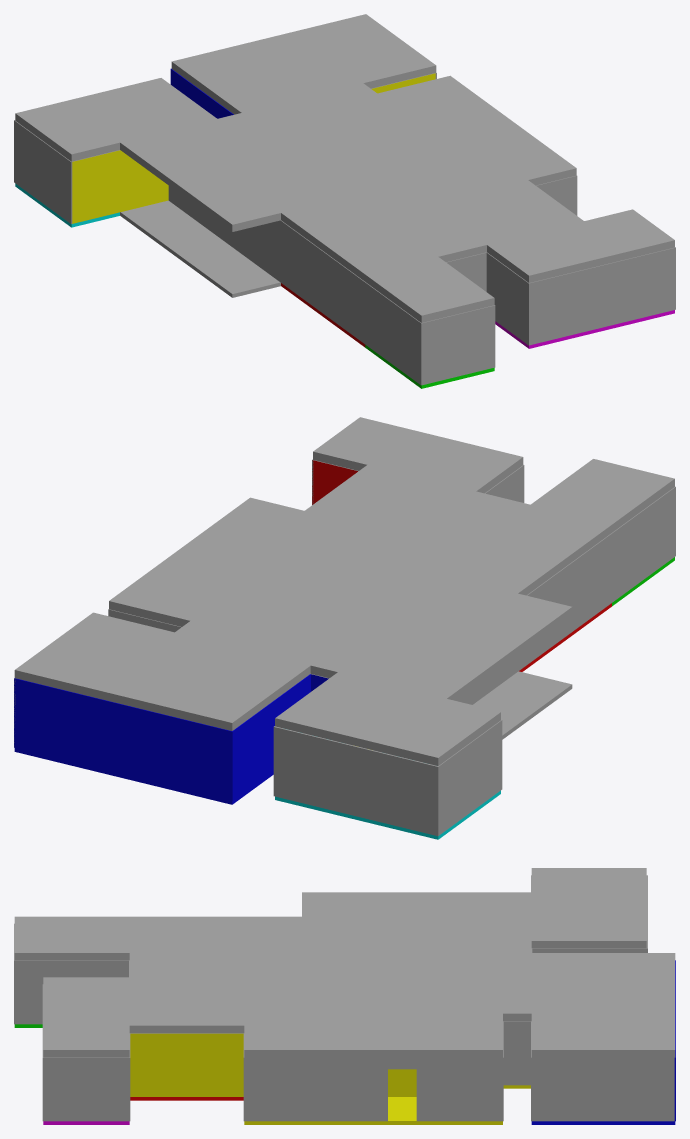
The model's file is house_v001.fbx.
3 views of the same model, one above another, from view 1: azimuth 30°, elevation 25°; view 2: azimuth 150°, elevation 25°; view 3: azimuth 270°, elevation 25° (orthographic). The views are drawn at different scales.
Parts seen in each view (by area): view 1: ceiling, wall23, wall19, floor, wall29, wall22, wall13, wall16, wall24, wall12, wall03, wall27; view 2: ceiling, wall08, wall15, wall19, floor, wall13, wall12, wall27, wall16, wall24; view 3: ceiling, wall05, wall11, wall28, wall25, wall26, floor, wall04, wall14.
Boxes of the visible parts, x1=… form: ceiling: x1=15, y1=14, x2=674, y2=322; wall23: x1=528, y1=247, x2=675, y2=345; wall19: x1=281, y1=220, x2=420, y2=384; floor: x1=15, y1=183, x2=674, y2=388; wall29: x1=70, y1=72, x2=436, y2=223; wall22: x1=421, y1=305, x2=494, y2=385; wall13: x1=14, y1=120, x2=72, y2=223; wall16: x1=168, y1=186, x2=280, y2=282; wall24: x1=486, y1=252, x2=529, y2=344; wall12: x1=170, y1=68, x2=233, y2=118; wall03: x1=536, y1=175, x2=577, y2=215; wall27: x1=446, y1=252, x2=486, y2=291; ceiling: x1=14, y1=417, x2=674, y2=765; wall08: x1=14, y1=678, x2=231, y2=800; wall15: x1=273, y1=726, x2=437, y2=835; wall19: x1=519, y1=487, x2=675, y2=670; floor: x1=14, y1=557, x2=674, y2=839; wall13: x1=436, y1=720, x2=501, y2=836; wall12: x1=231, y1=674, x2=310, y2=800; wall27: x1=312, y1=460, x2=358, y2=504; wall16: x1=455, y1=654, x2=518, y2=704; wall24: x1=485, y1=465, x2=524, y2=502; ceiling: x1=14, y1=868, x2=675, y2=1057; wall05: x1=245, y1=1057, x2=502, y2=1121; wall11: x1=532, y1=1057, x2=674, y2=1121; wall28: x1=130, y1=1033, x2=416, y2=1096; wall25: x1=42, y1=1057, x2=130, y2=1121; wall26: x1=14, y1=960, x2=128, y2=1024; floor: x1=14, y1=1024, x2=675, y2=1124; wall04: x1=502, y1=1021, x2=530, y2=1121; wall14: x1=532, y1=948, x2=647, y2=952.
Bounding box in the file's own units: 15.1 × 2.89 × 23.12.
